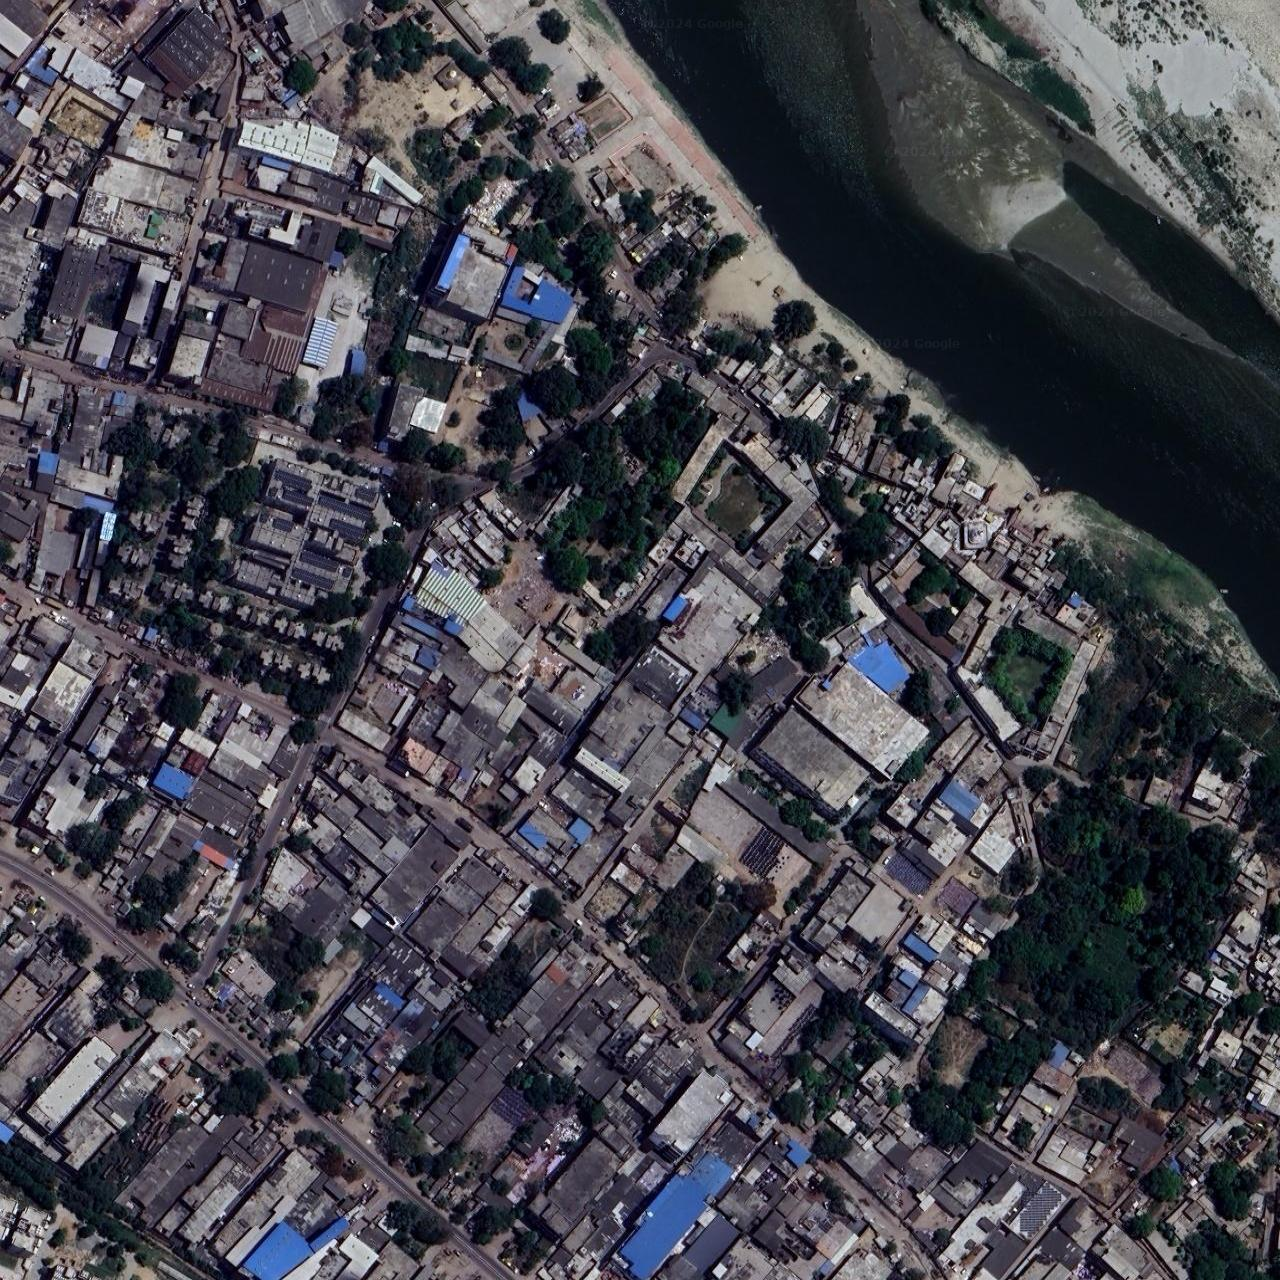greenery: (990, 554, 1280, 1048), (993, 779, 1238, 1050)
house: (410, 300, 1108, 1088), (373, 788, 1187, 1280), (305, 755, 532, 1069), (0, 949, 183, 1160), (212, 1152, 490, 1280), (430, 225, 578, 373), (0, 1190, 192, 1280), (250, 880, 368, 1019), (320, 750, 335, 763)
water: (610, 0, 1280, 673)
